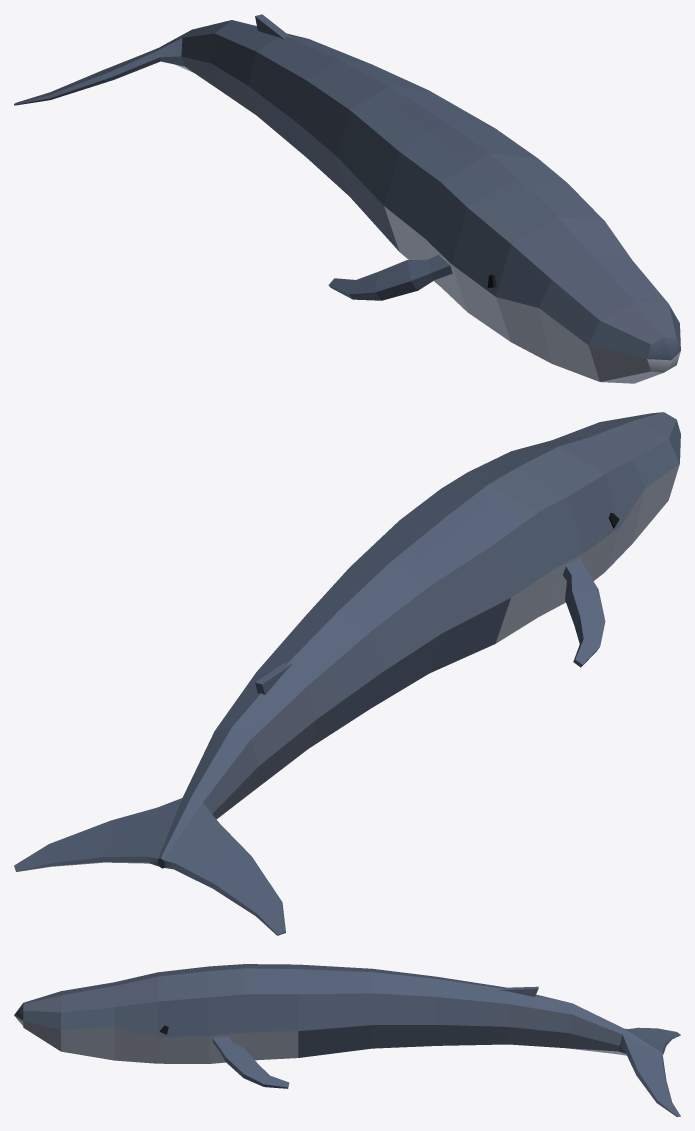
File: whale.glb
3 renders of one model, top to bottom at view 1: azimuth 30°, elevation 25°; view 2: azimuth 150°, elevation 25°; view 3: azimuth 270°, elevation 25°, orthographic. The views are drawn at different scales.
Visible parts, largest first — view 1: Geo_Whale; view 2: Geo_Whale; view 3: Geo_Whale.
Part boxes in pixels (<box>): Geo_Whale: <box>14,14,680,383</box>; Geo_Whale: <box>14,412,680,935</box>; Geo_Whale: <box>14,964,680,1116</box>.
Bounding box in the file's own units: 111 × 66.37 × 373.
Materials: 1 (1 with a texture image).
